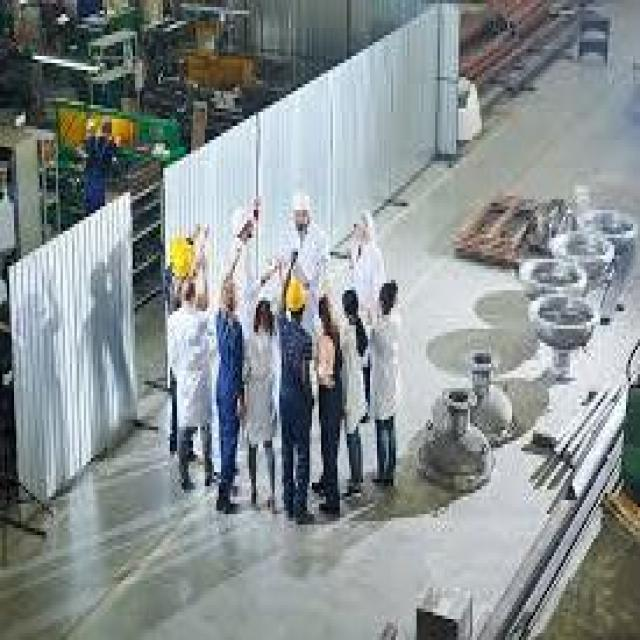Safety-Helmet: (165, 234, 198, 284), (285, 276, 310, 315)
